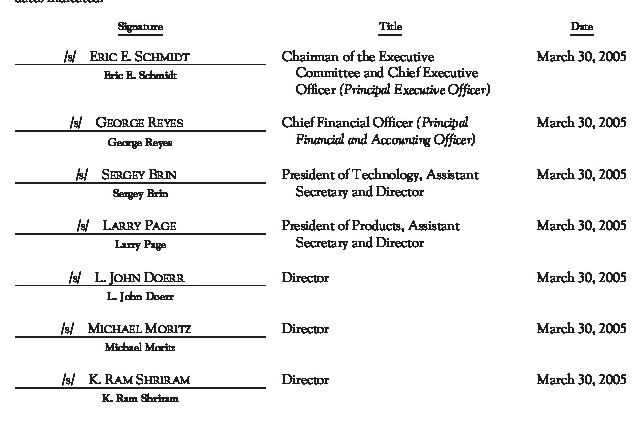table: (0, 0, 643, 424)
